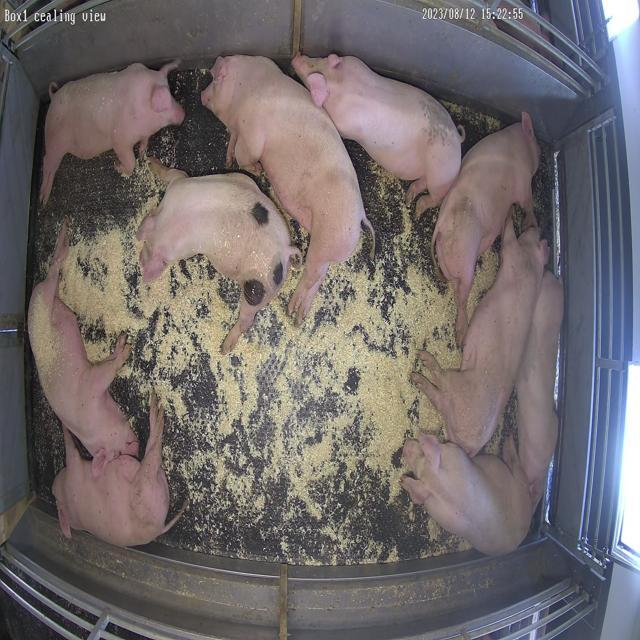Pig: (201, 56, 366, 324), (413, 211, 550, 456), (137, 160, 300, 354), (292, 54, 464, 216), (28, 222, 138, 468), (433, 112, 541, 340), (39, 62, 184, 204), (52, 397, 183, 546), (402, 435, 535, 556), (517, 272, 565, 506)
